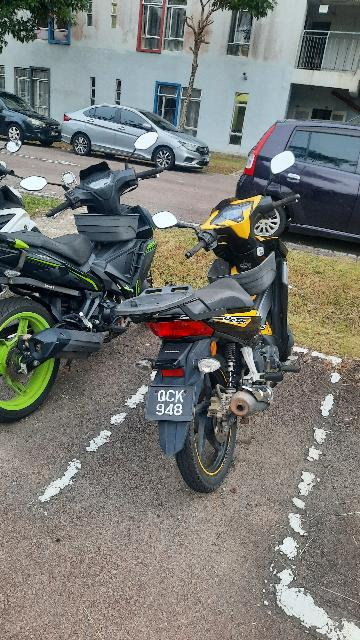License_Plate: (148, 388, 194, 422)
car: (237, 114, 360, 245), (60, 102, 218, 175)
motorcycle: (135, 154, 299, 492), (1, 130, 159, 422)
